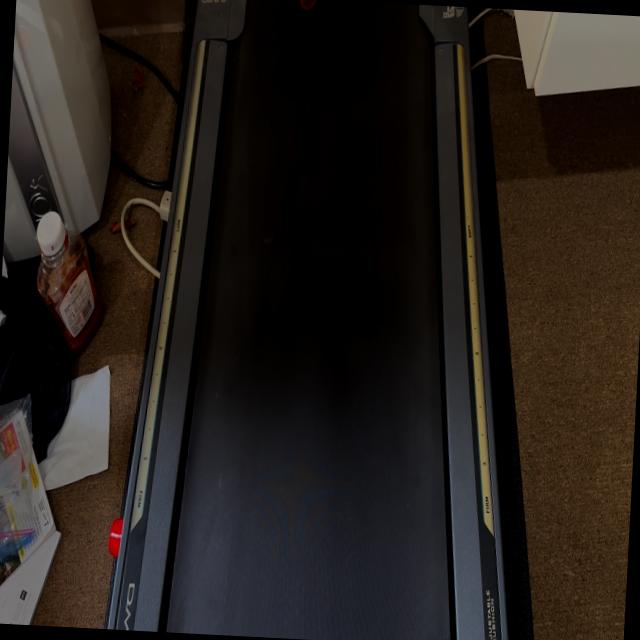Trash: (295, 0, 320, 12)
